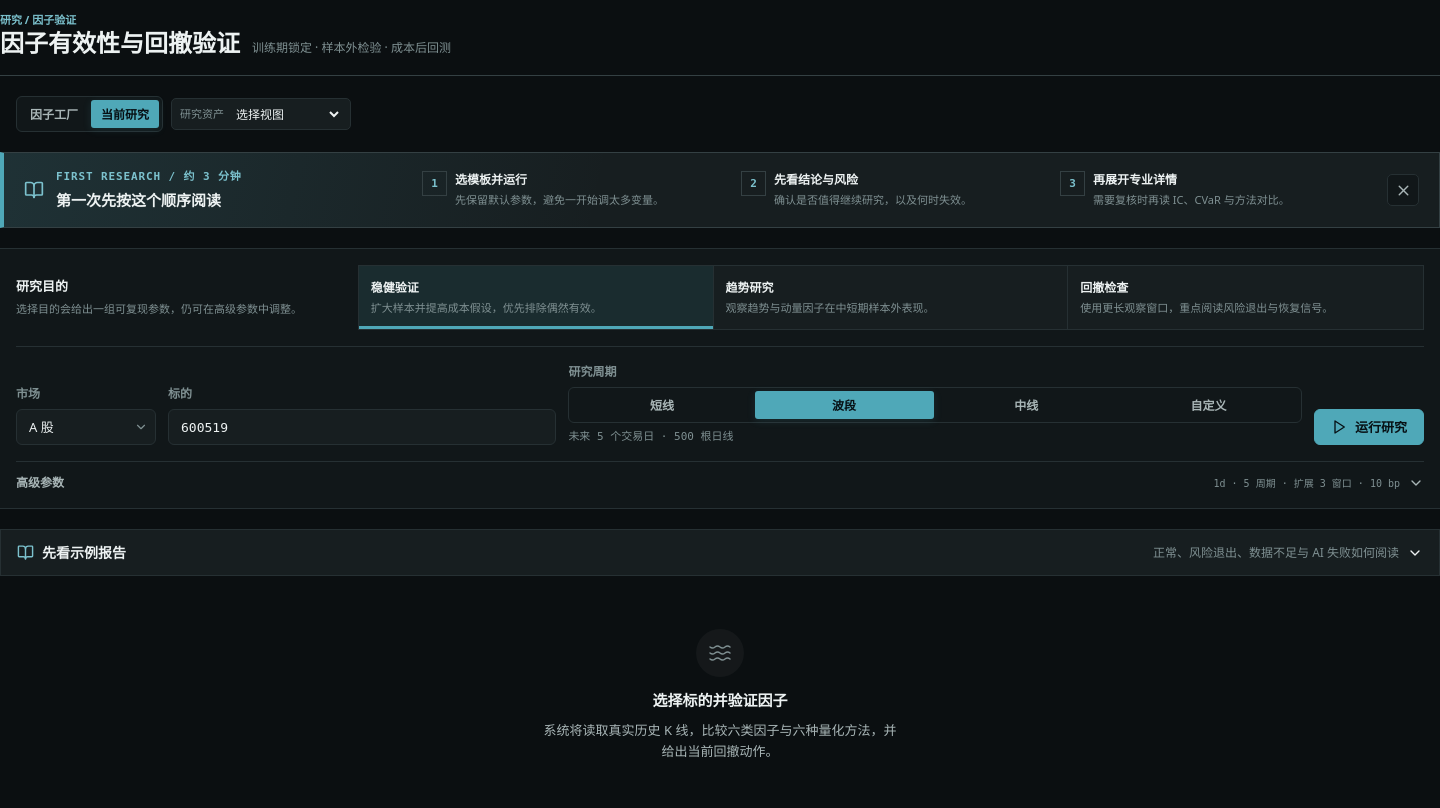
it: FactorResearchPage › runs research and renders the risk signal and factor result
Replace the text in the field with placeholder "600519 / AAPL" with "aapl" at (362, 427), box [168,409,556,445]
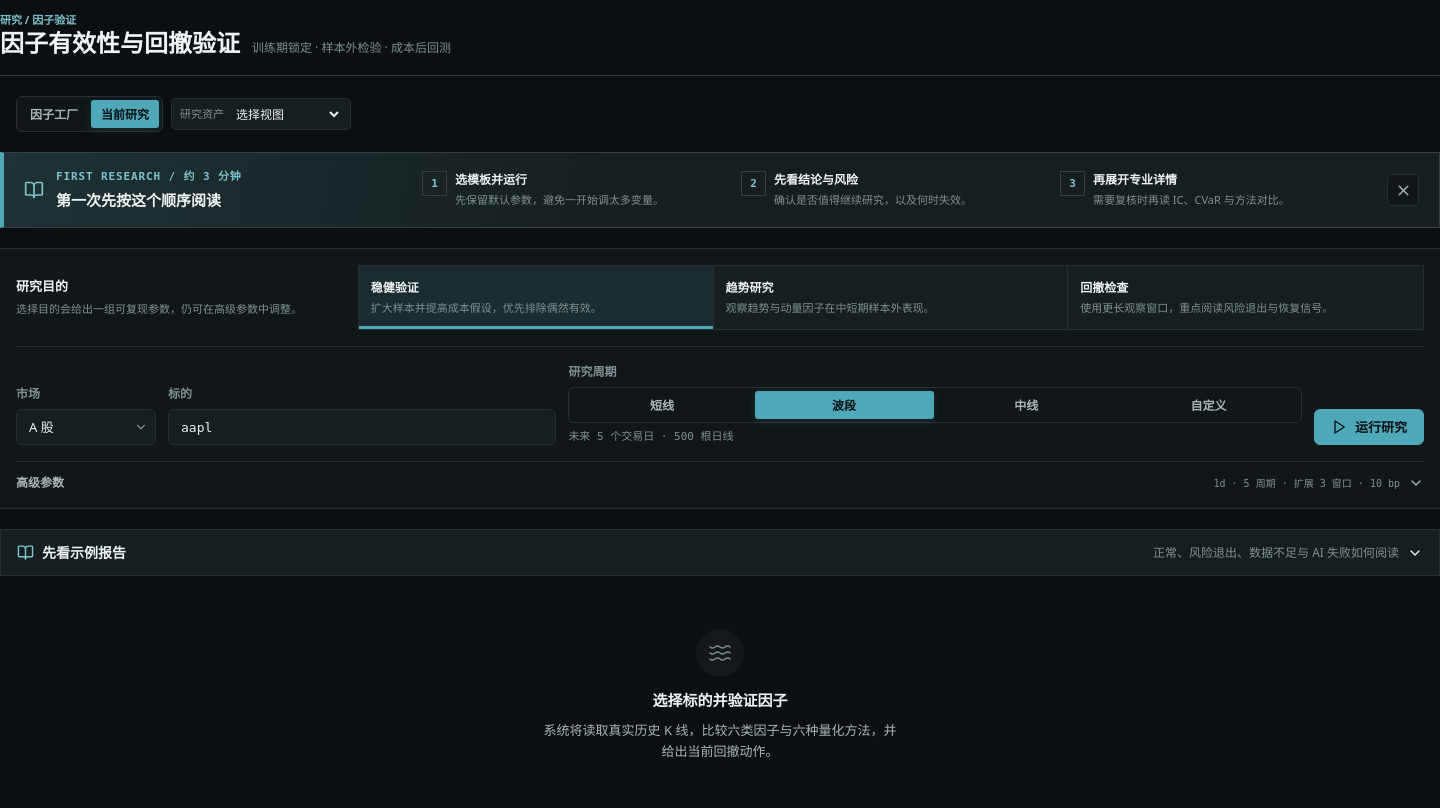
Click the button "运行研究" at (1369, 427), box [1314,409,1424,445]
(page scrolled)
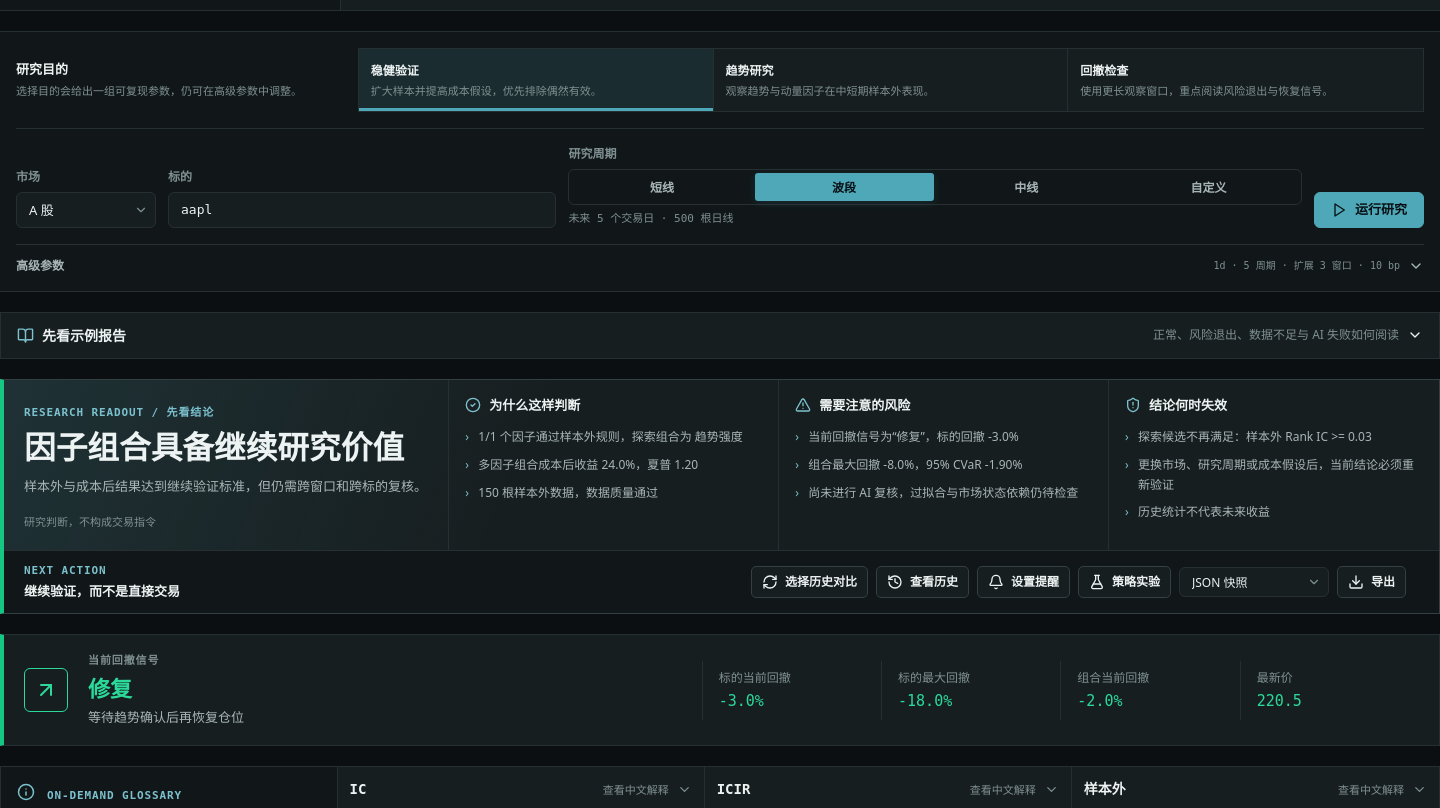
Expected: the text "修复" is shown, [88,673,132,703]
Expected: the number of list items "历史统计不代表未来收益" is 2
Expected: the heading "因子组合具备继续研究价值" is shown, [24,429,428,464]
